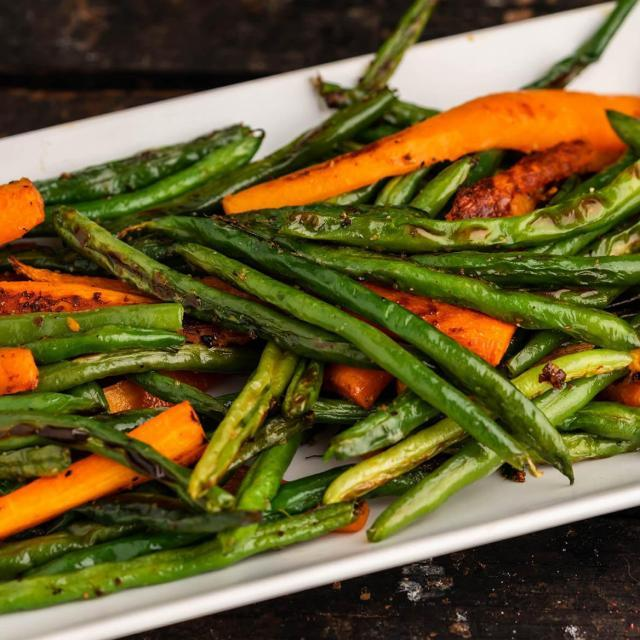Beans: (0, 8, 639, 626)
